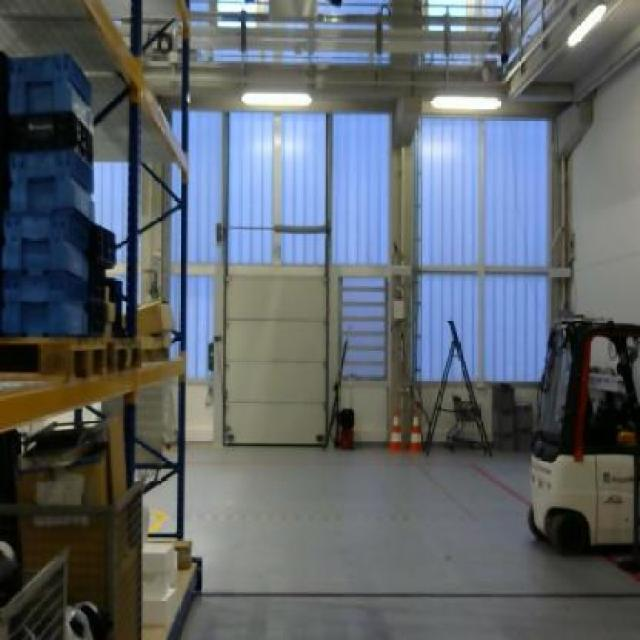box: (137, 298, 177, 334)
